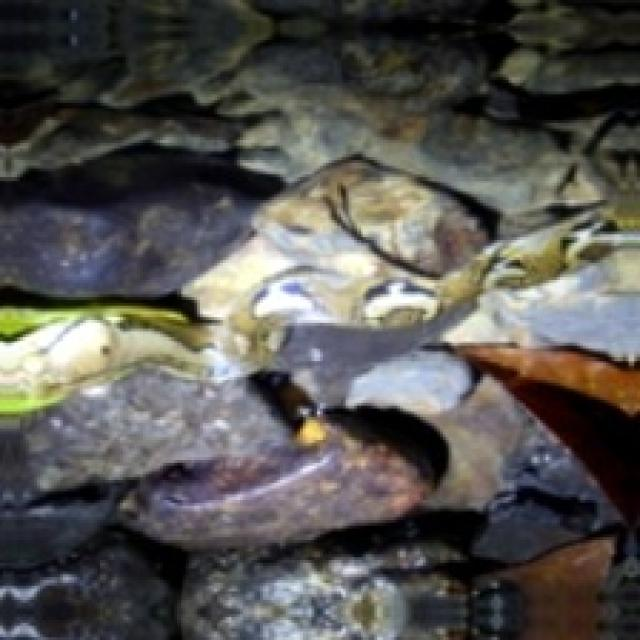reticulated python: (1, 158, 640, 417)
